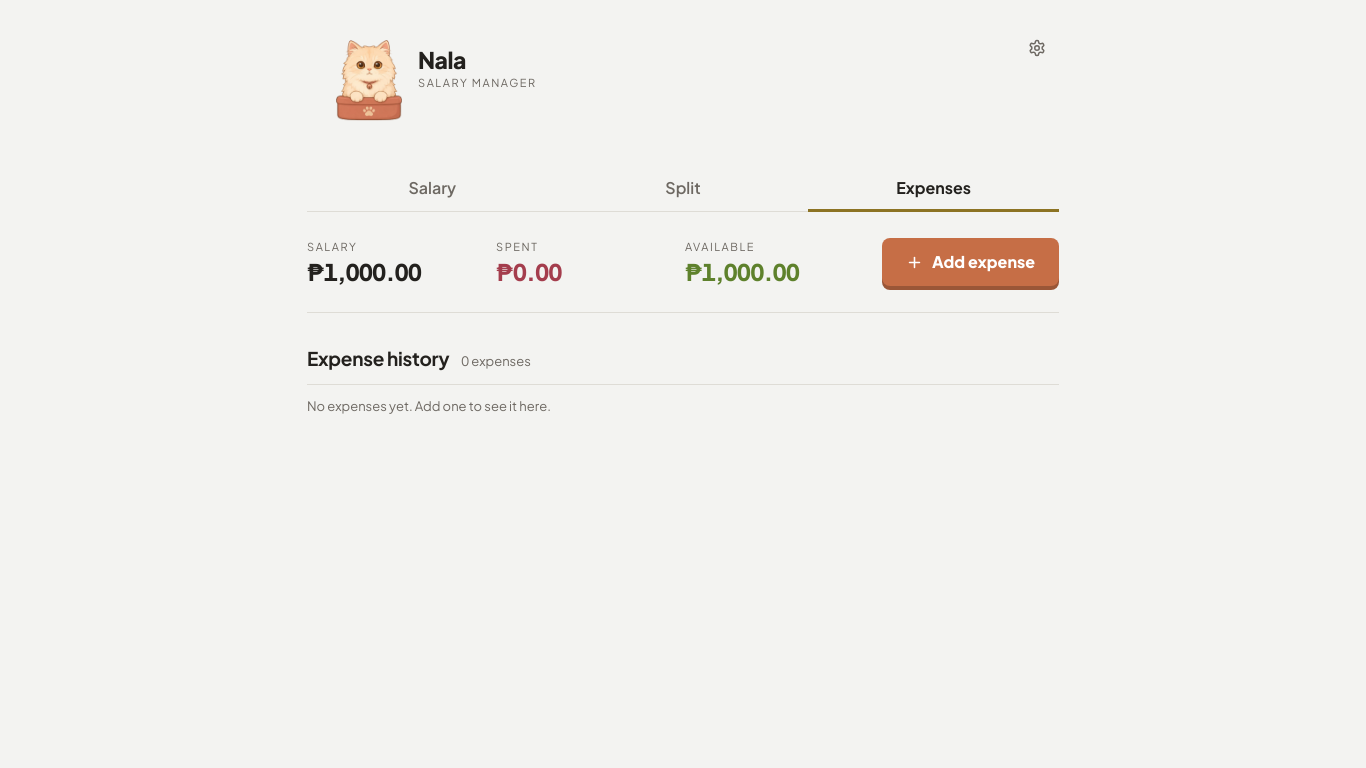
Test case: tabs › confirms an added expense in a toast
The image size is (1366, 768).
Expected: the tab "Expenses" is shown, [808,168,1059,212]
Click the button "Add expense" at (971, 262), box [882,238,1059,286]
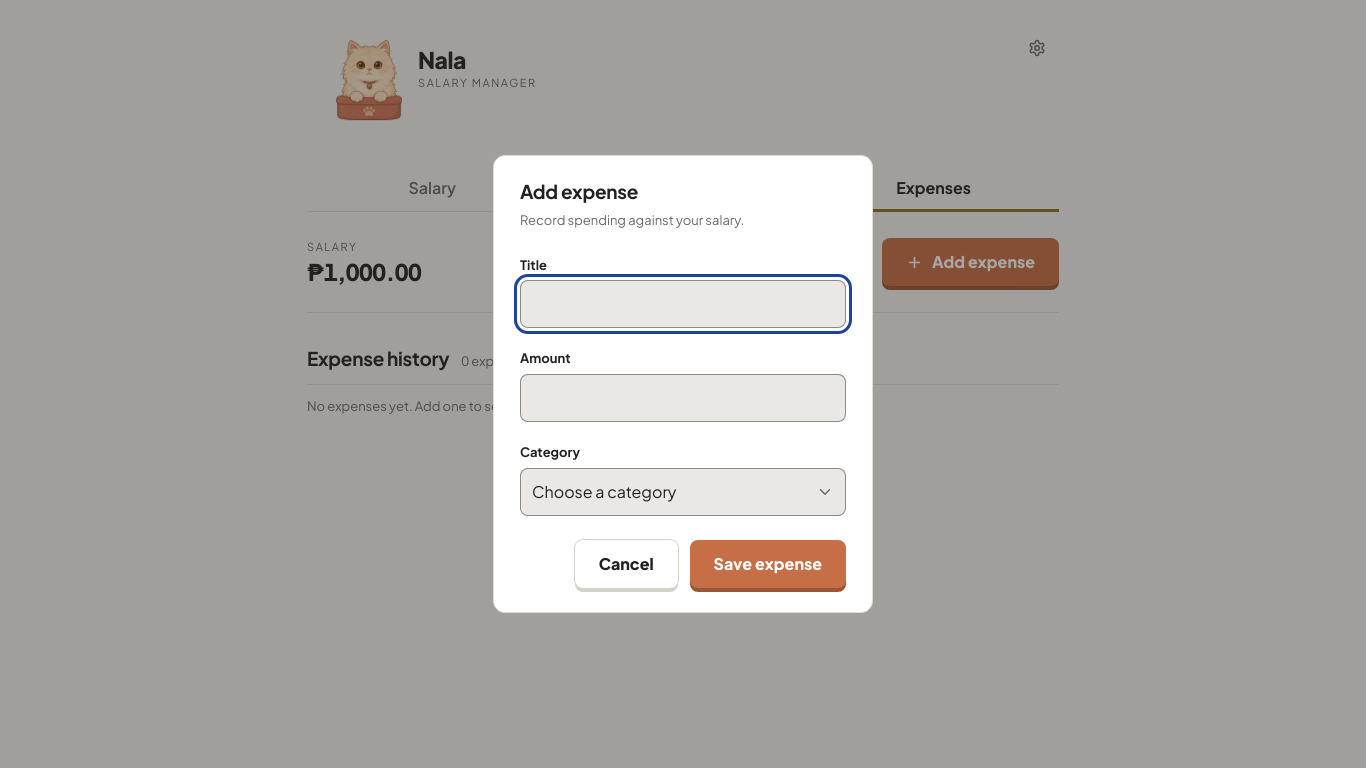
Type "Lunch" into the field labelled "Title" at (683, 304), box [520,280,846,328]
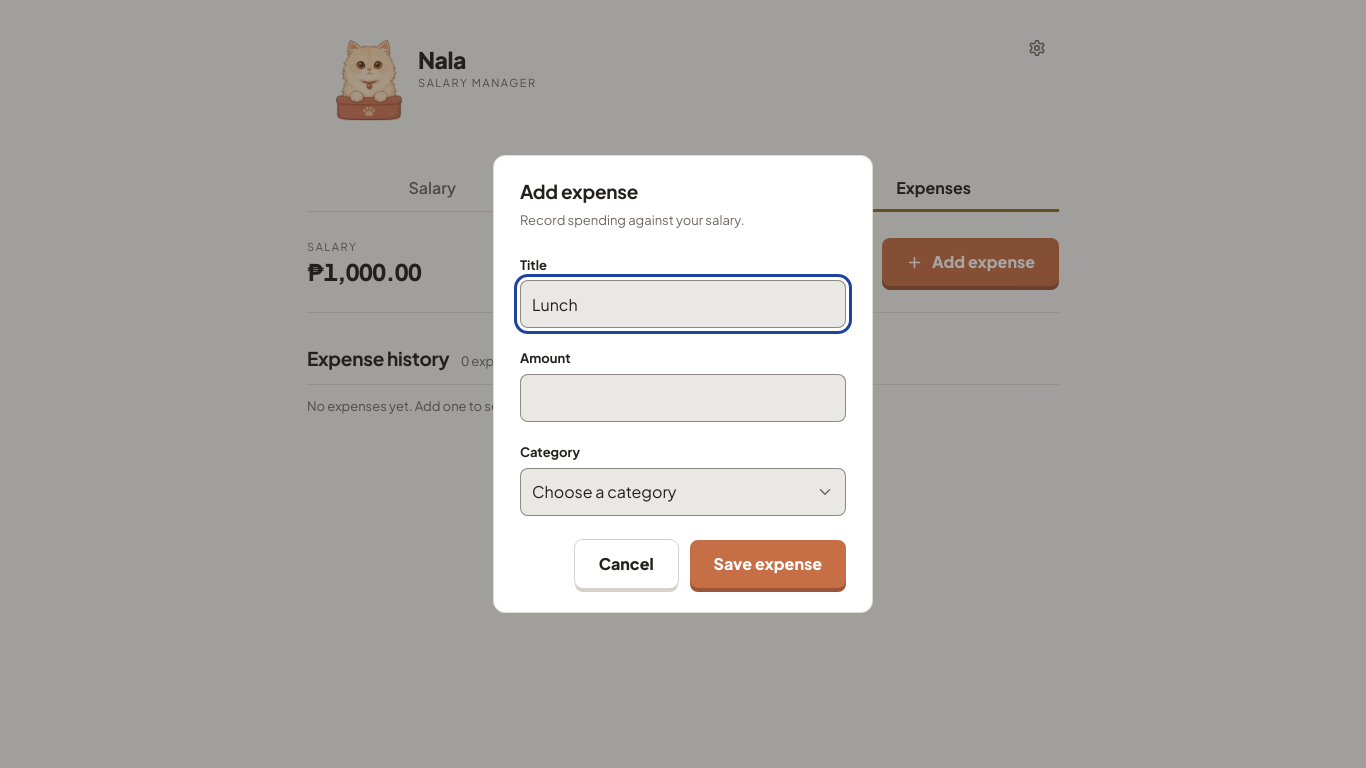
Type "250" into the field labelled "Amount" at (683, 398), box [520,374,846,422]
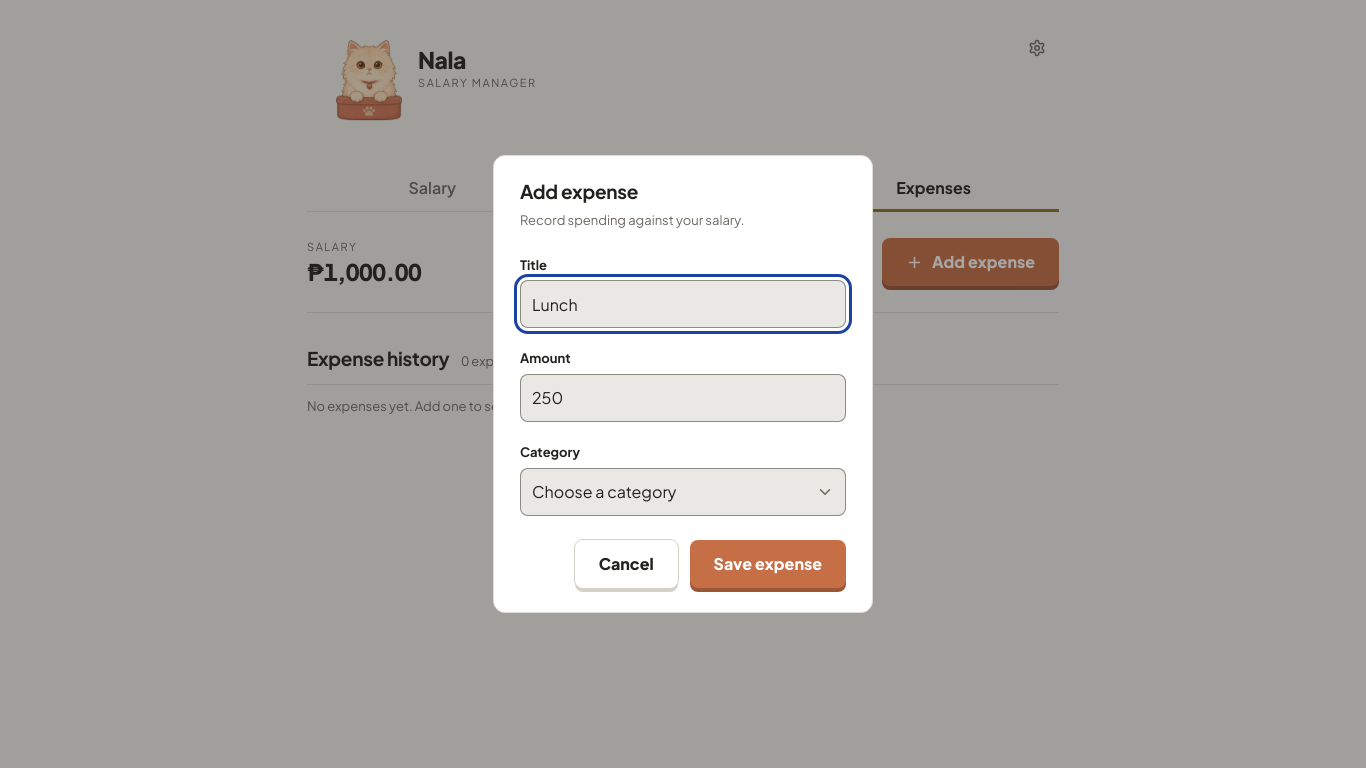
Select "Food" in the dropdown labelled "Category" at (683, 492), box [520,468,846,516]
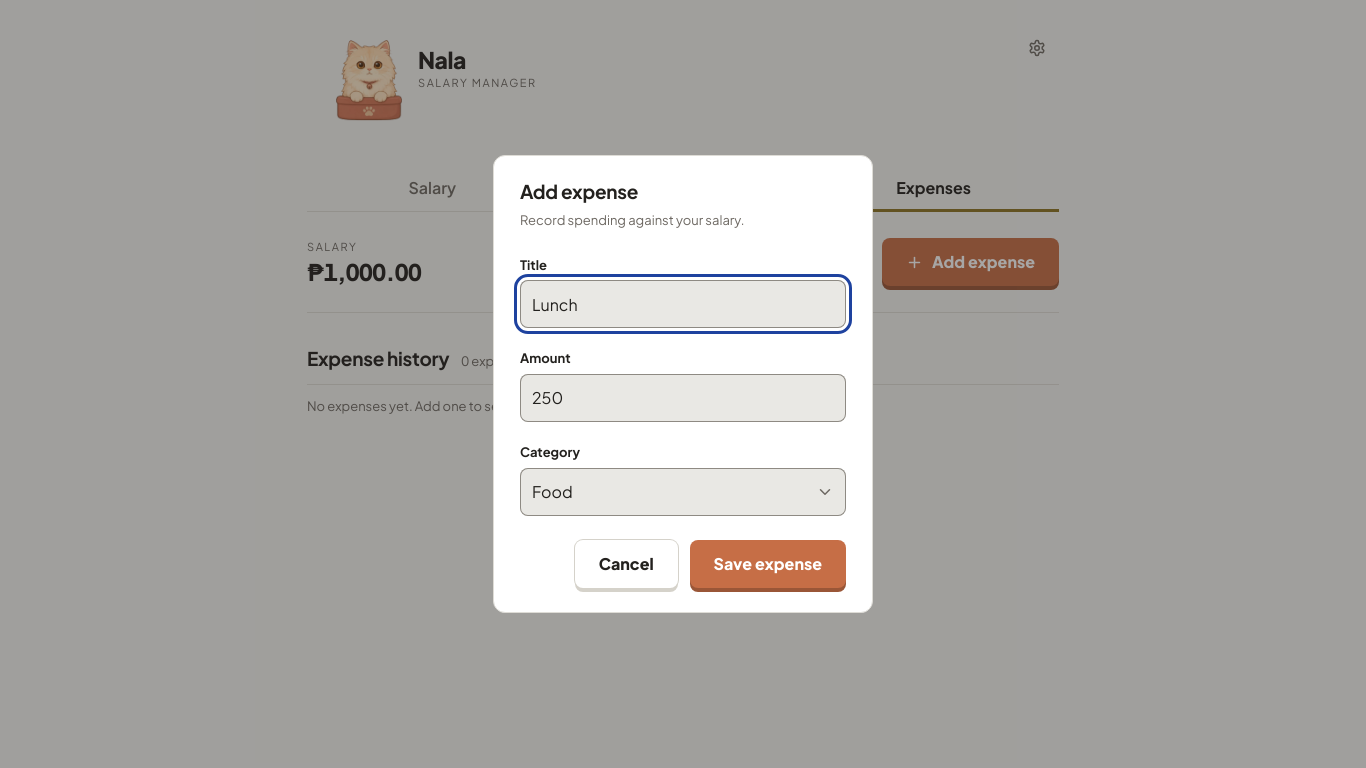
Click the button "Save expense" at (768, 564), box [690,540,846,588]
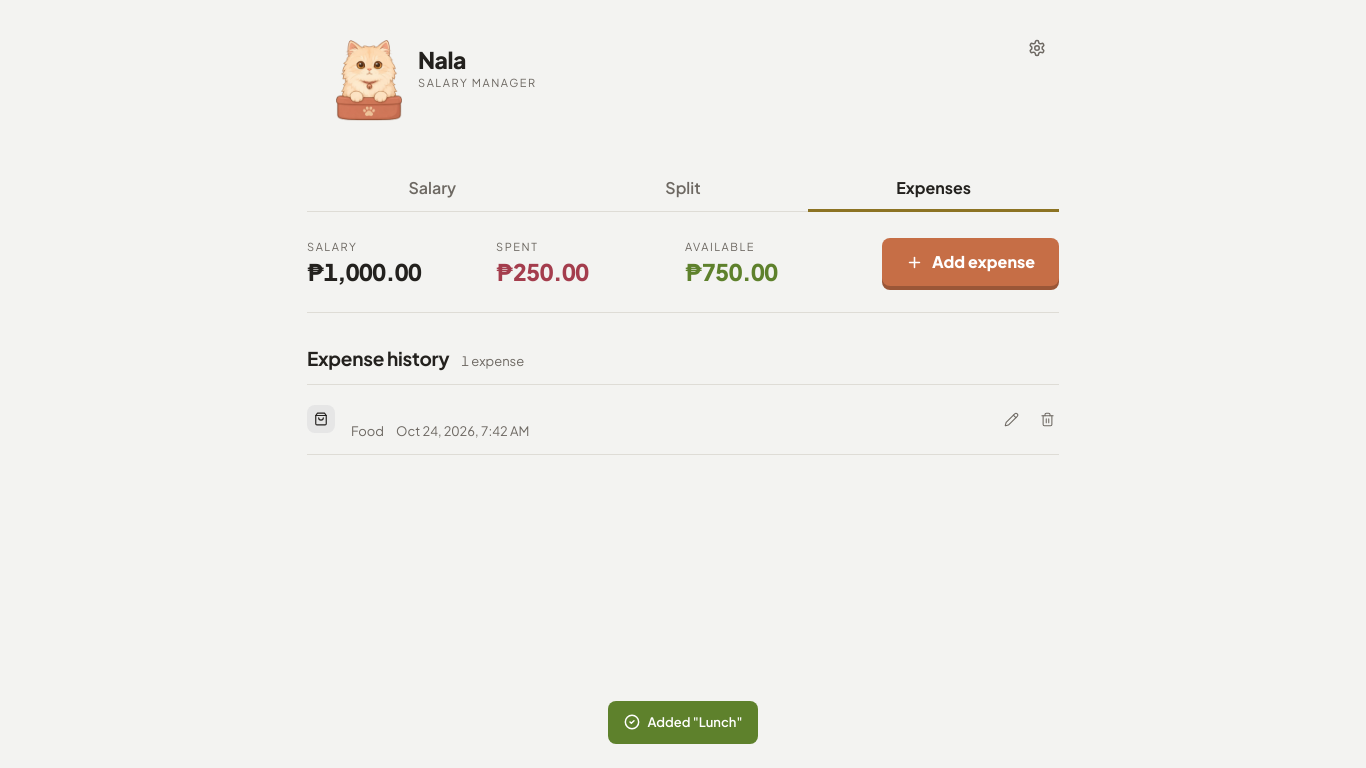
Now the text "Added \"Lunch\"" is shown, box [608,700,758,744]
